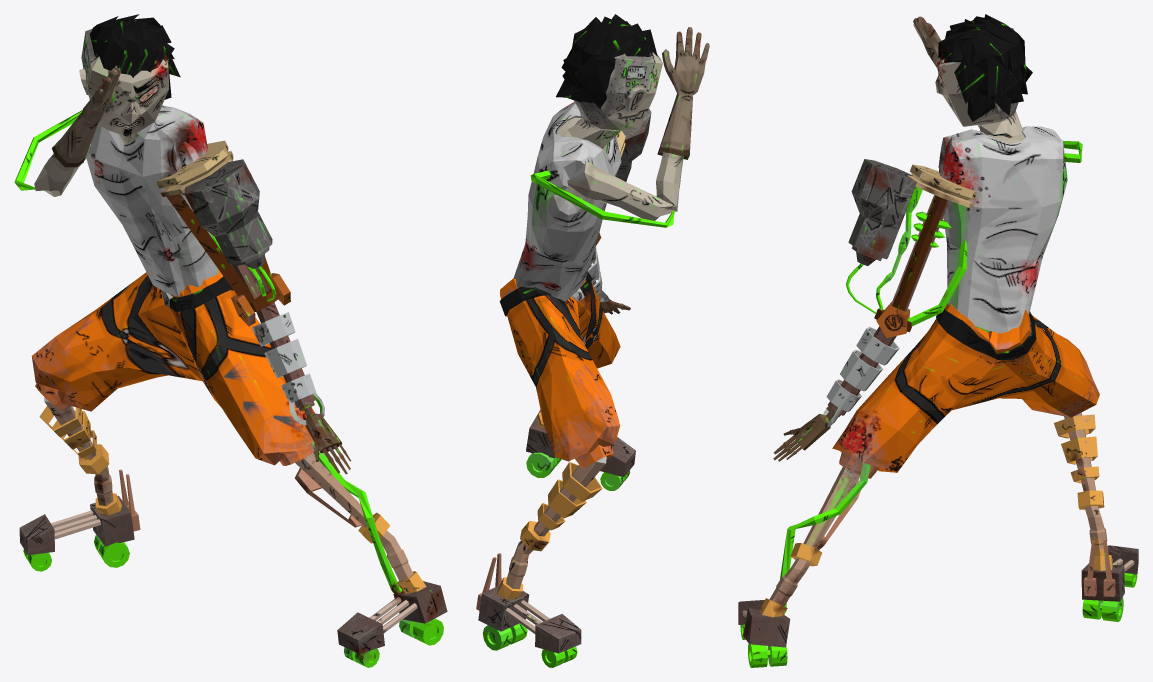
The model's file is CyborgFINALAnimation_000058.obj.
3 renders of one model, left to right at view 1: azimuth 30°, elevation 25°; view 2: azimuth 150°, elevation 25°; view 3: azimuth 270°, elevation 25°, orthographic. The views are drawn at different scales.
Visible parts, largest first — view 1: CyborgMesh_Cube.002; view 2: CyborgMesh_Cube.002; view 3: CyborgMesh_Cube.002.
Boxes of the visible parts, left/top/right/bottom form: CyborgMesh_Cube.002: left=14, top=14, right=447, bottom=667; CyborgMesh_Cube.002: left=476, top=14, right=709, bottom=667; CyborgMesh_Cube.002: left=738, top=14, right=1138, bottom=667.
Bounding box in the file's own units: 4.24 × 8.64 × 5.44.
